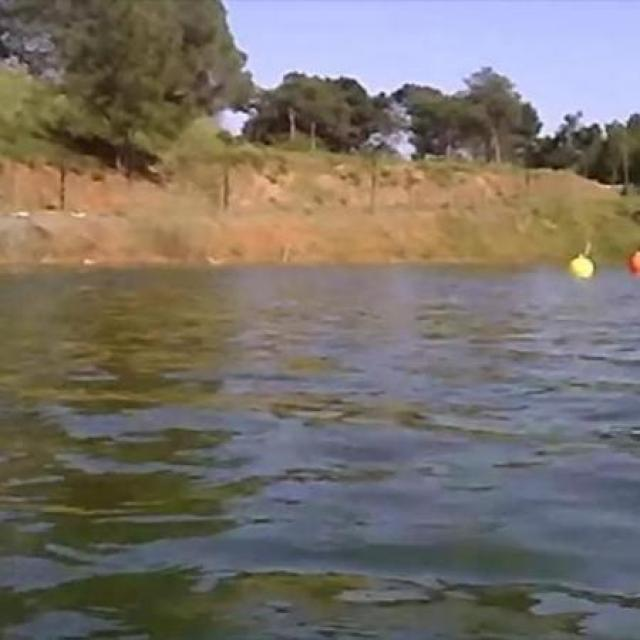buoy: (568, 255, 594, 278), (630, 254, 640, 274)
